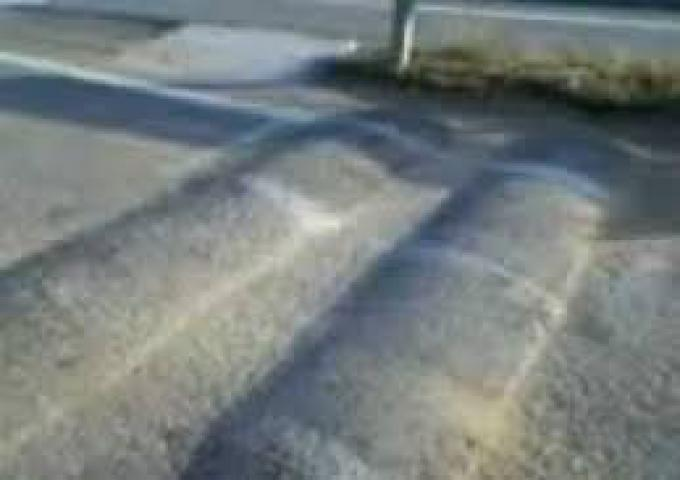speedbreaker: (0, 106, 678, 478)
